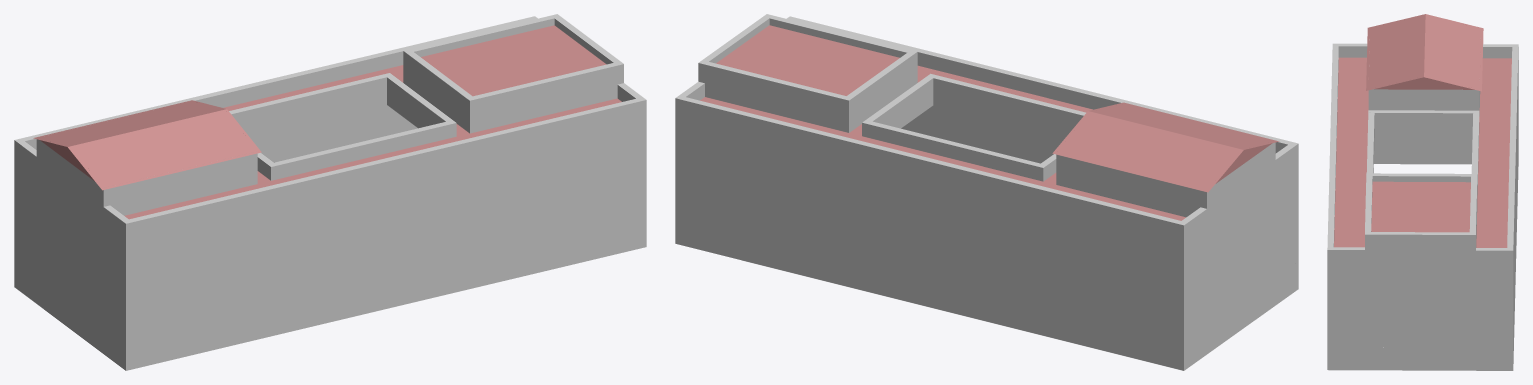
Rendered from LOD_Block_1_57.glb.
3 views of the same model, side by side, from view 1: azimuth 30°, elevation 25°; view 2: azimuth 150°, elevation 25°; view 3: azimuth 270°, elevation 25° (orthographic). The views are drawn at different scales.
Parts seen in each view (by area): view 1: mesh_CityEngineMaterial_760; view 2: mesh_CityEngineMaterial_760; view 3: mesh_CityEngineMaterial_760.
Part boxes in pixels (box(x1,y1,x2,y2)): mesh_CityEngineMaterial_760: box(14, 14, 646, 370); mesh_CityEngineMaterial_760: box(675, 14, 1298, 370); mesh_CityEngineMaterial_760: box(1327, 14, 1518, 370).
Size of the model in its own units: 39.53 by 13.22 by 15.35.
